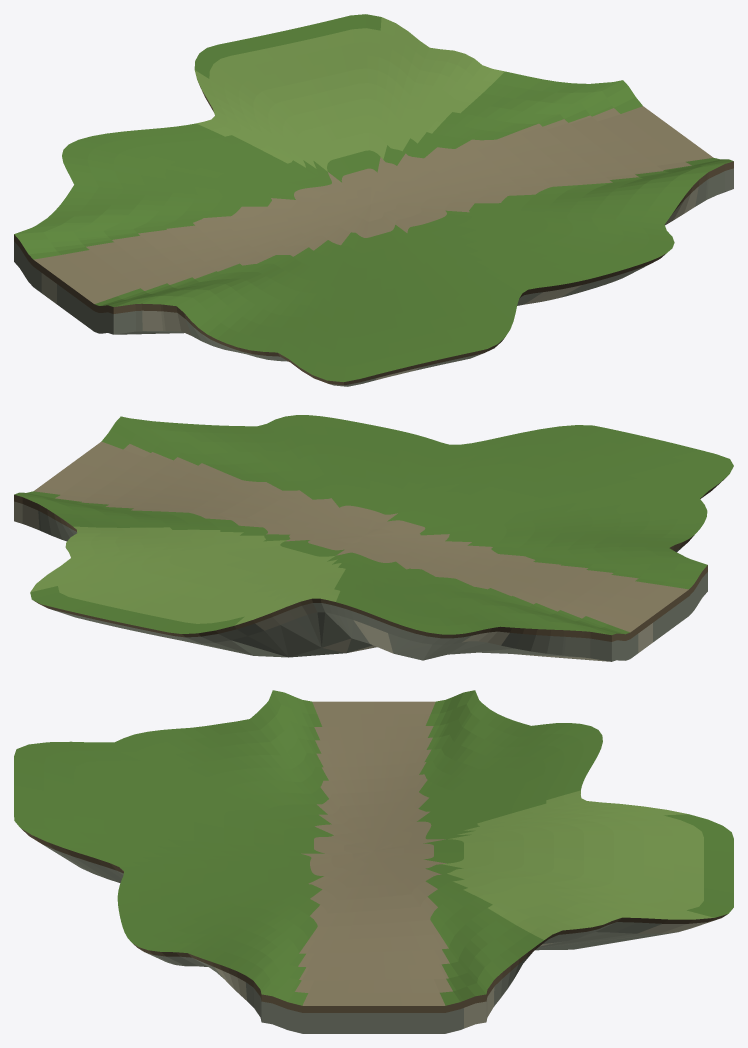
The model's file is high_ledge_gate_structure.fbx.
3 renders of one model, top to bottom at view 1: azimuth 30°, elevation 25°; view 2: azimuth 150°, elevation 25°; view 3: azimuth 270°, elevation 25°, orthographic. The views are drawn at different scales.
Visible parts, largest first — view 1: chunk_high_ledge_gate; view 2: chunk_high_ledge_gate; view 3: chunk_high_ledge_gate.
Boxes of the visible parts, x1,y1,x2,y2 form: chunk_high_ledge_gate: (14, 14, 733, 386); chunk_high_ledge_gate: (14, 415, 733, 661); chunk_high_ledge_gate: (14, 690, 733, 1033).
Size of the model in its own units: 256 by 52.49 by 256.
